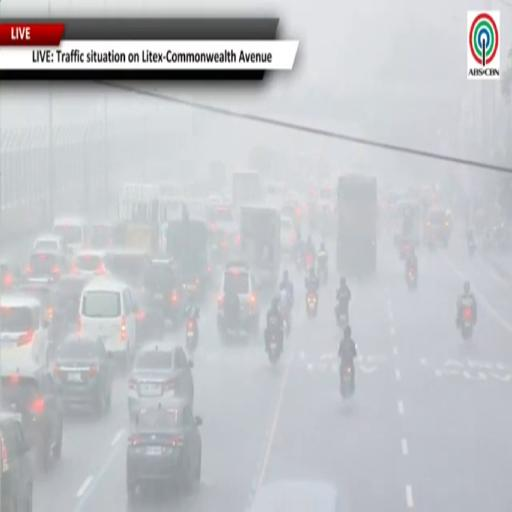car: (127, 399, 202, 503), (0, 362, 63, 471), (78, 277, 137, 365), (128, 343, 194, 418), (54, 335, 113, 414), (0, 294, 49, 365), (0, 411, 33, 511), (217, 262, 260, 334), (251, 480, 350, 511), (16, 282, 64, 344), (143, 259, 184, 324), (53, 274, 90, 331), (132, 288, 165, 346), (209, 204, 240, 261), (105, 248, 146, 285), (25, 250, 69, 281), (53, 217, 87, 253), (424, 207, 452, 247), (71, 249, 107, 277), (89, 220, 114, 250), (33, 233, 69, 253), (281, 200, 304, 229), (0, 261, 20, 292), (280, 216, 296, 253)
motorcycle: (186, 308, 199, 355), (267, 330, 281, 364), (460, 307, 474, 341), (340, 365, 354, 398), (186, 317, 198, 355), (335, 299, 348, 330), (280, 306, 291, 338), (336, 308, 348, 331), (306, 293, 317, 317), (406, 267, 417, 291), (318, 258, 327, 284), (305, 252, 315, 269), (295, 250, 303, 269), (468, 239, 476, 256)
truck: (337, 173, 378, 277), (166, 216, 210, 297), (240, 205, 281, 289), (393, 199, 422, 250), (232, 171, 263, 209)
